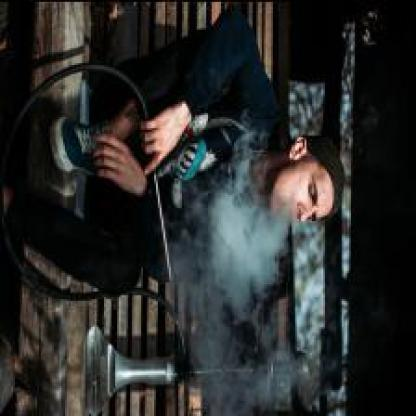Smoke: (188, 208, 287, 379)
